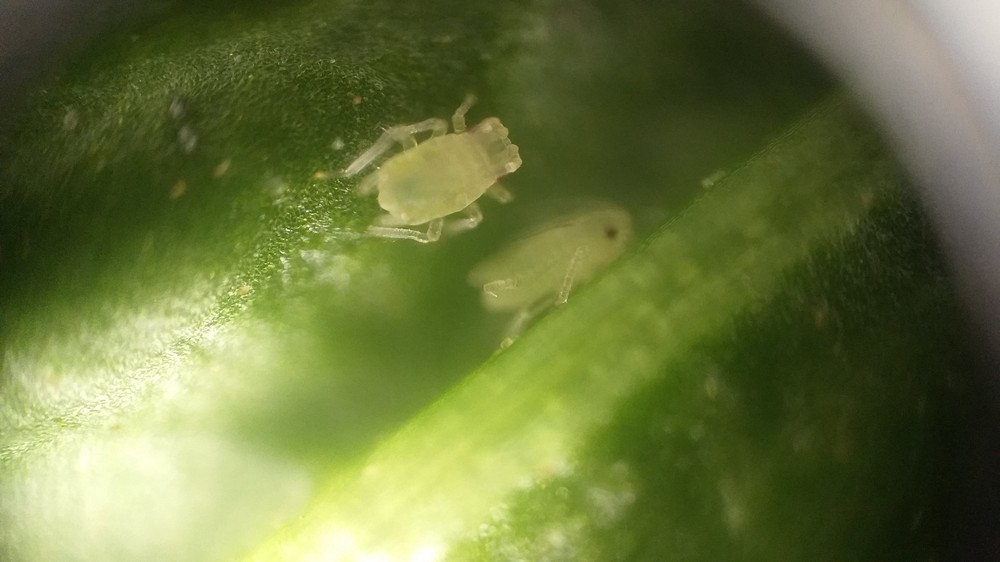Pulgon: (304, 76, 528, 247), (460, 193, 659, 341)
